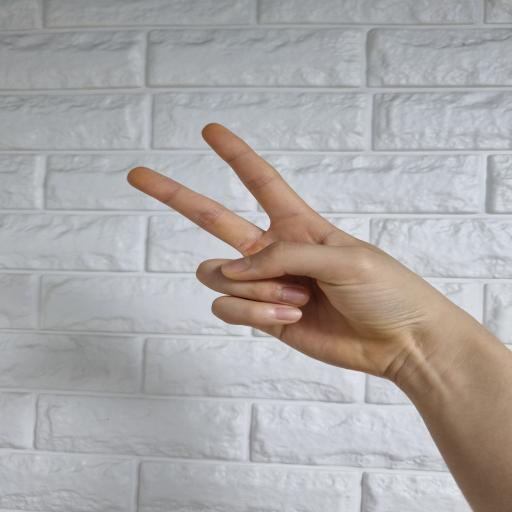Scissors: (124, 119, 460, 381)
